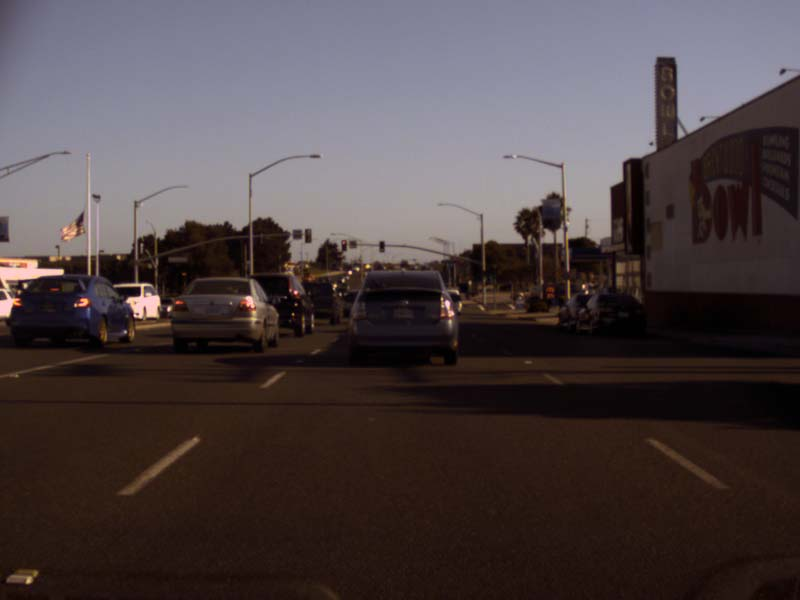Green: (379, 240, 384, 251), (482, 271, 486, 279)
Red: (181, 270, 186, 282), (341, 240, 346, 250)
